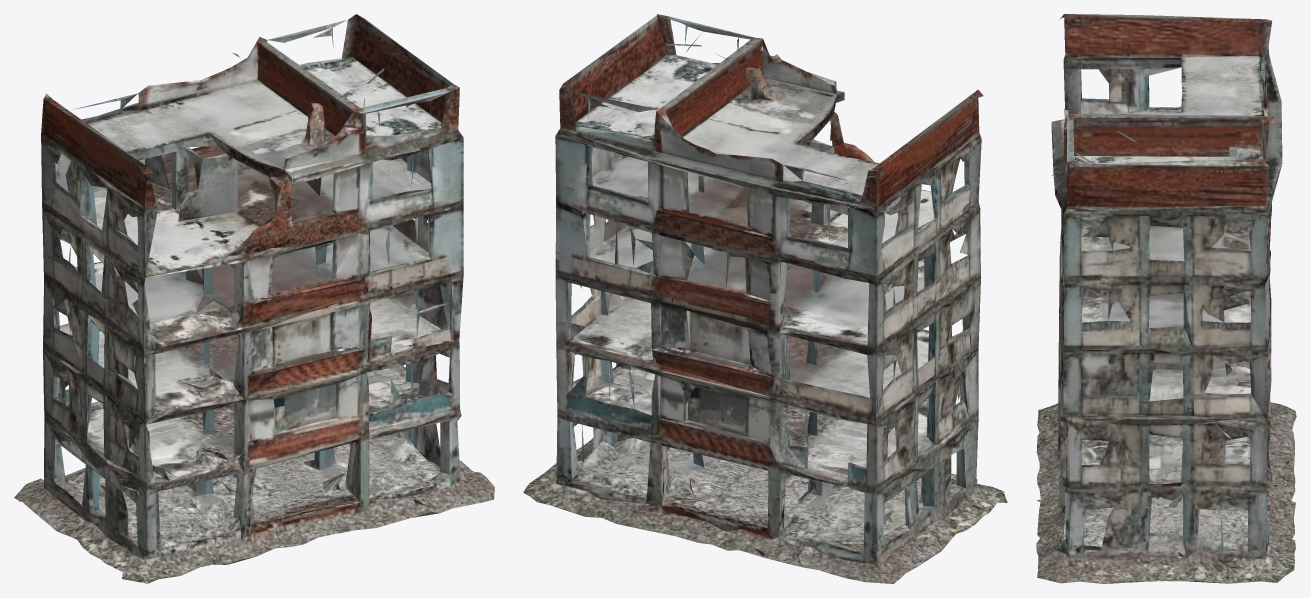
File: skeleton_block.glb
The picture shows the model from 3 angles, left to right: view 1: azimuth 30°, elevation 25°; view 2: azimuth 150°, elevation 25°; view 3: azimuth 270°, elevation 25°; orthographic projection.
Parts seen in each view (by area): view 1: skeleton_block; view 2: skeleton_block; view 3: skeleton_block.
Boxes of the visible parts, bbox=[...] form: skeleton_block: bbox=[14, 14, 494, 583]; skeleton_block: bbox=[523, 14, 1007, 583]; skeleton_block: bbox=[1036, 14, 1296, 583].
Bounding box in the file's own units: 1.82 × 1.9 × 1.1.
Materials: 1 (1 with a texture image).
